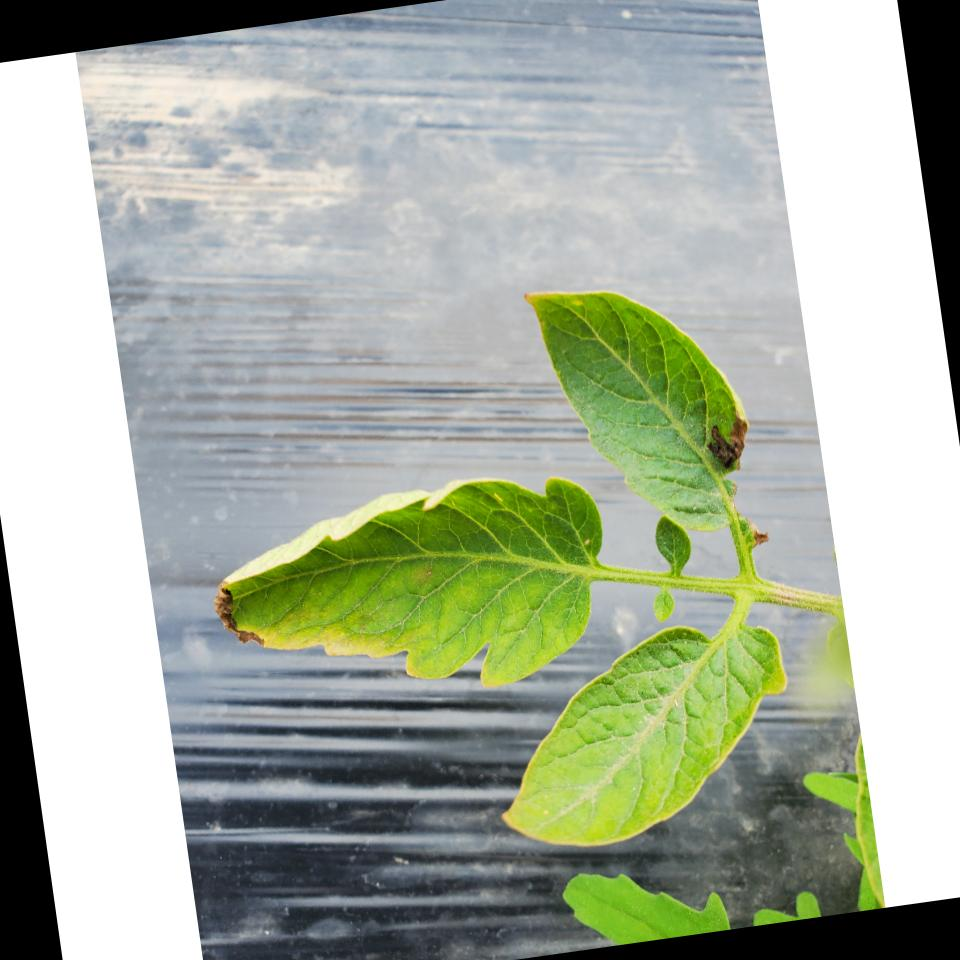tomato_yellow_leaf_curl_virus: (204, 464, 624, 721), (486, 616, 805, 860), (524, 264, 768, 548)
